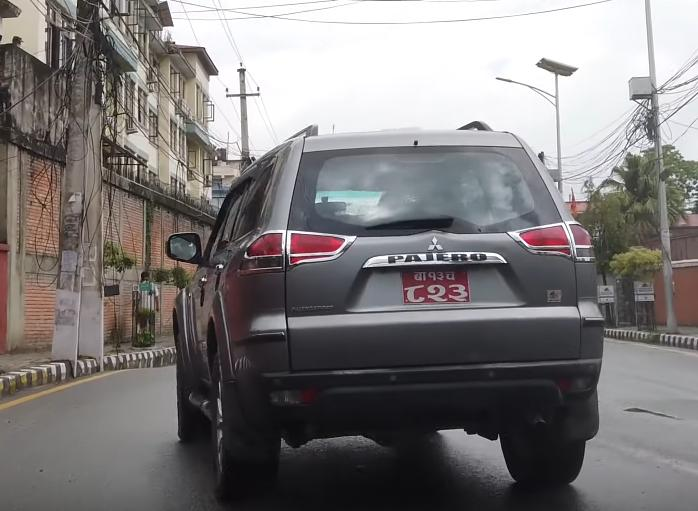SUV: (146, 112, 612, 508)
